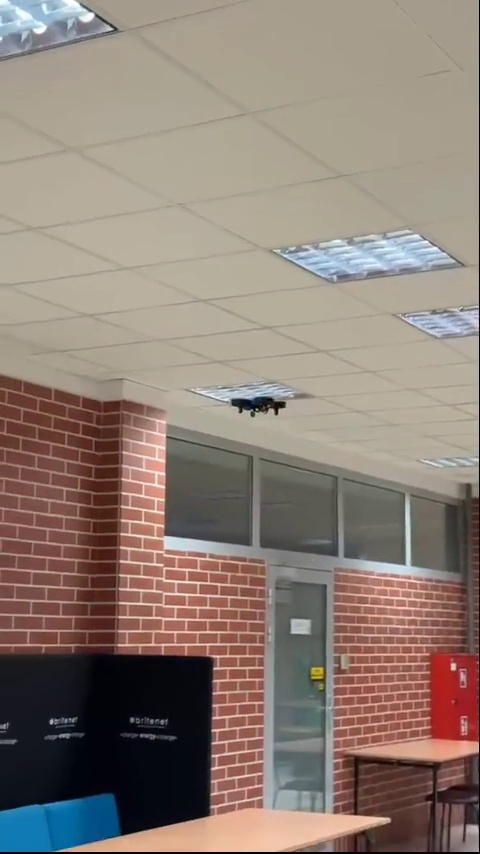drone: (230, 394, 286, 419)
